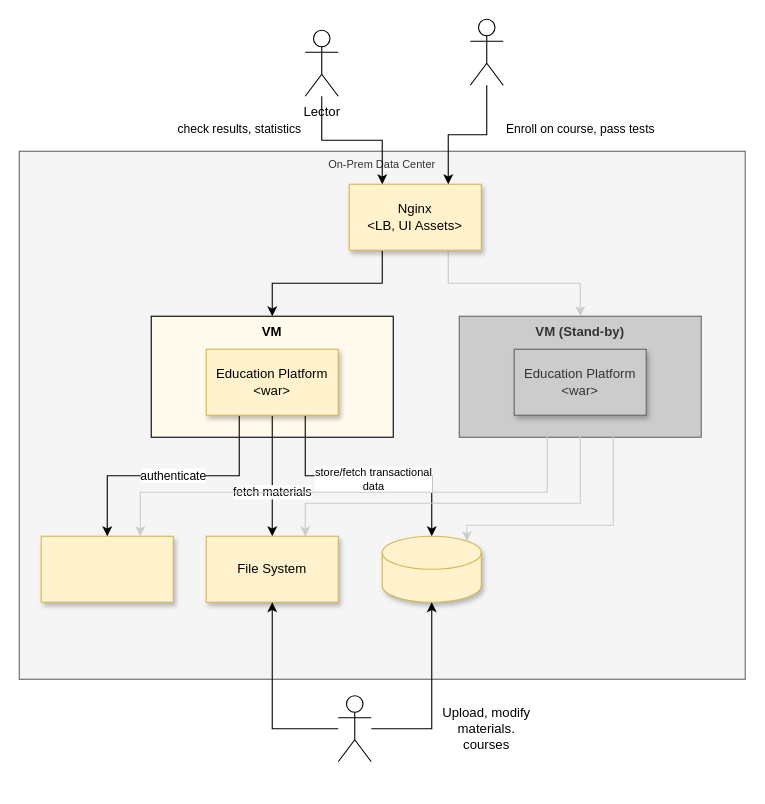
Image size: 765x804. Some labels were removed from this diagram. The shapes that lost their labels are listed below. From the top down, each one's centre as x and y in pixels, then its label:
At point 486,51: "Student".
At point 108,570: "Active Directory Service".
At point 432,570: "MySQL".
At point 354,728: "Administrator".
